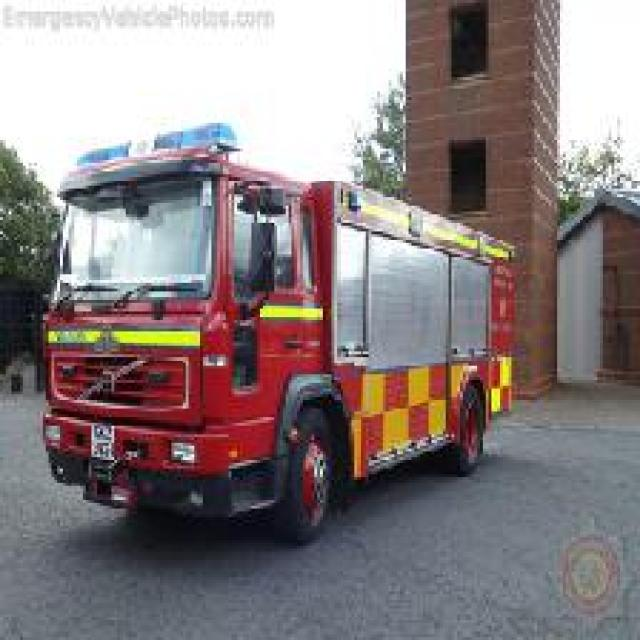Fire-truck: (37, 120, 517, 543)
